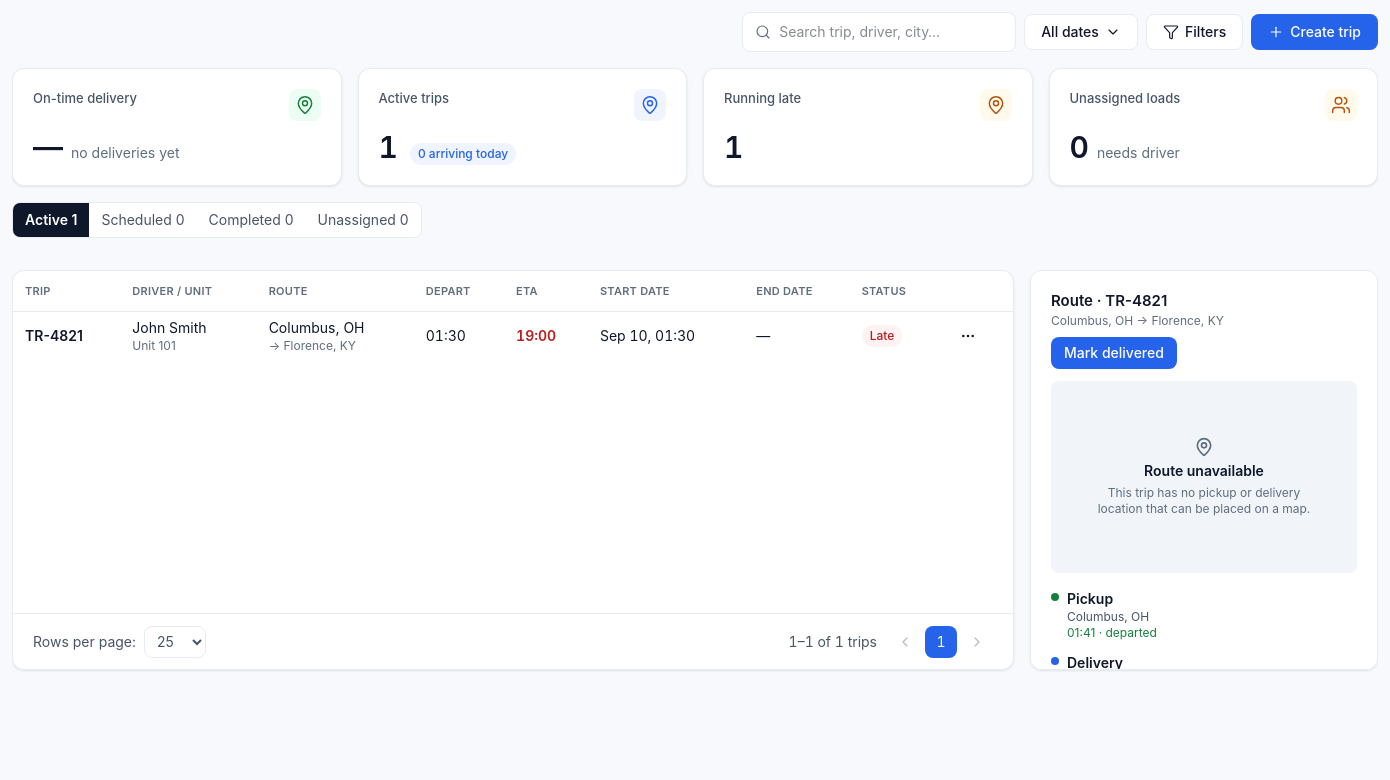
Test: W-11 Dispatch & Trips › shows the "No loads waiting" empty state on the Unassigned segment
The width and height of the screenshot is (1390, 780).
Expected: the text "TR-4821" is shown, [25,326,83,344]
Click the button "Unassigned 0" at (363, 220), box [306,203,421,237]
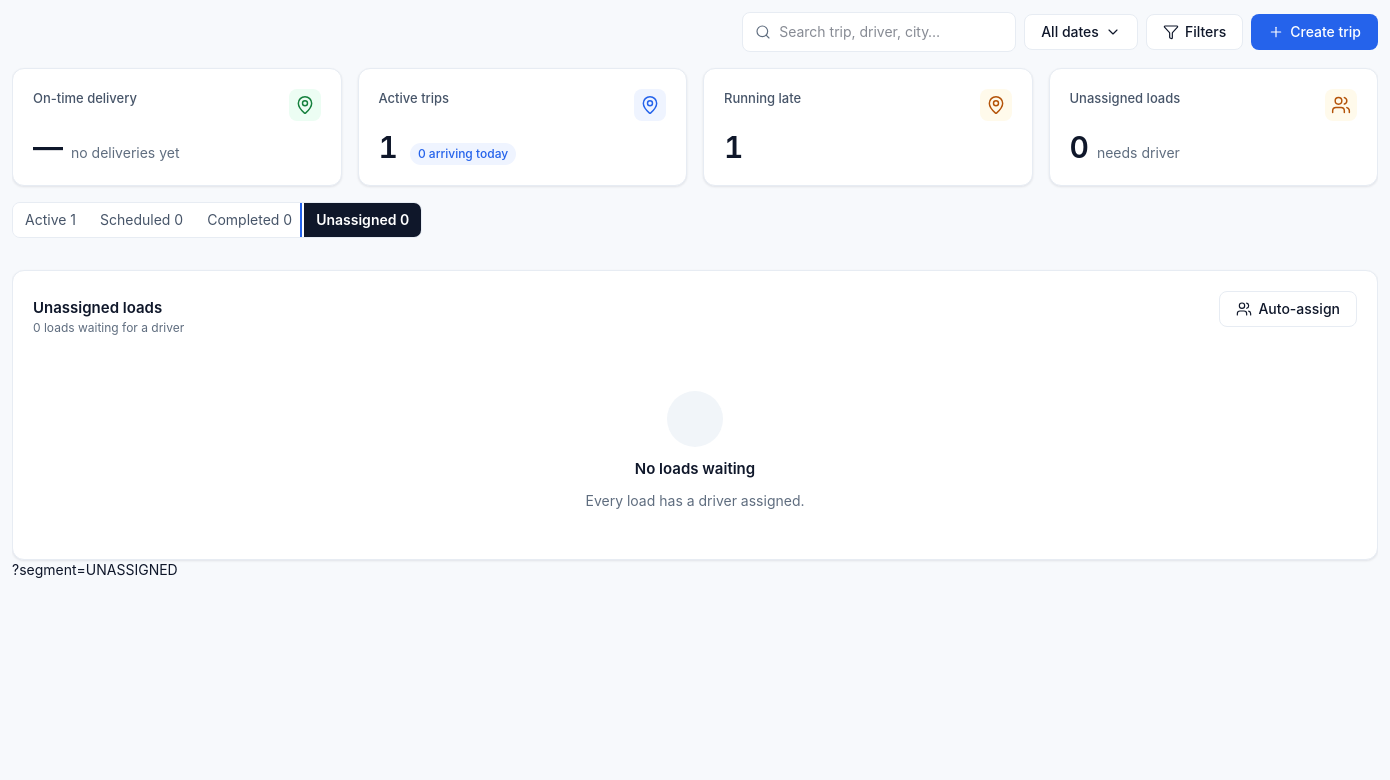
Expected: the heading "No loads waiting" is shown, [635,459,755,479]
Expected: the text "Every load has a driver assigned." is shown, [586,491,804,511]
